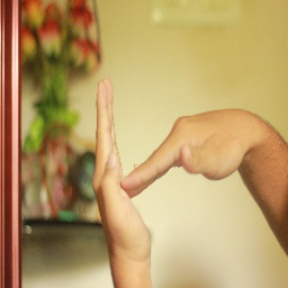Z: (81, 67, 258, 262)
